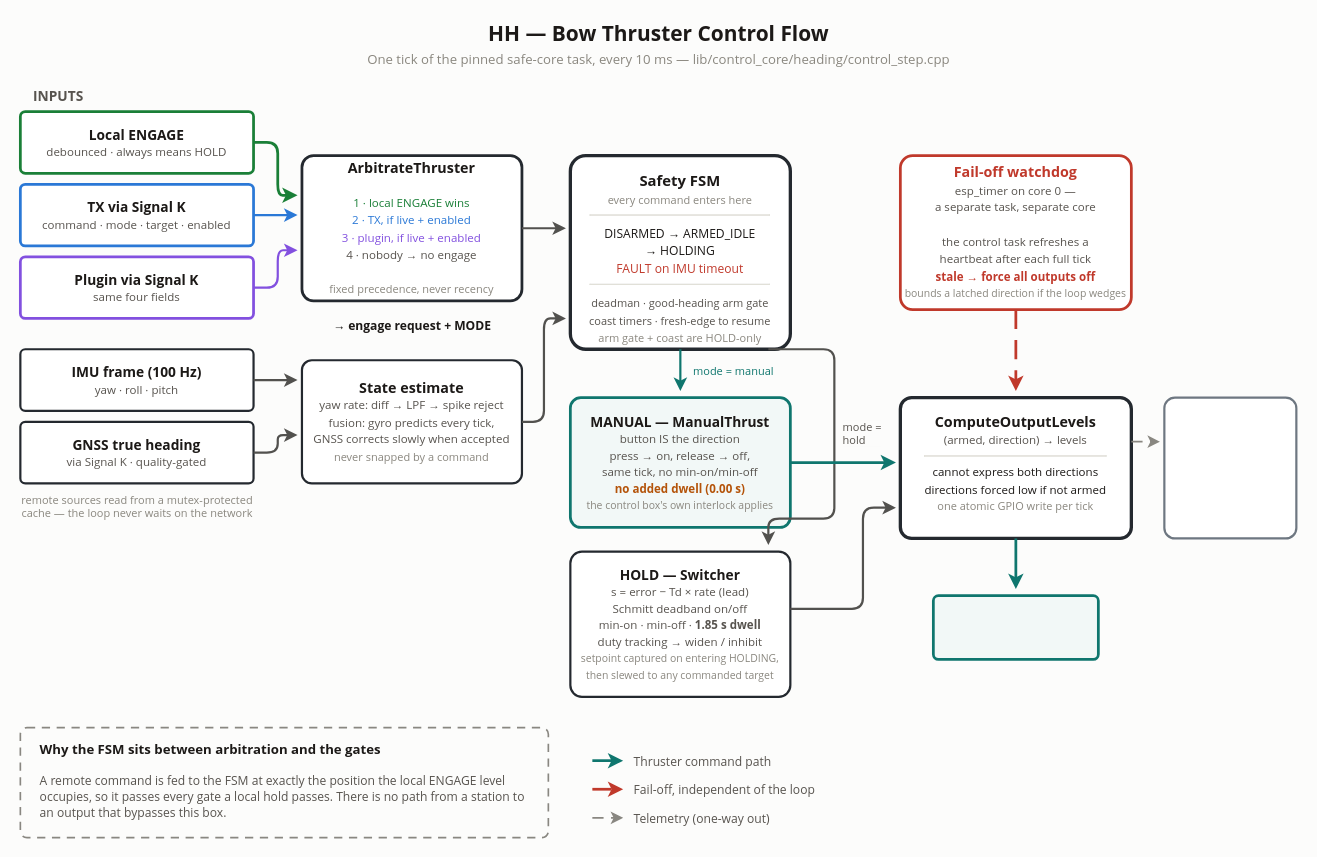
This 1317x857 diagram has some shape labels left out. The shapes that lost their labels are listed below. From the top down, each one's centre as x and y in pixels, then its label:
At [1230,467]: "Telemetry snapshot → SensESP loop hh.* + attitude published at 15 Hz, one-way".
At [1015,627]: "ENABLE · PORT · STBD GPIO 33 · 13 · 27".
